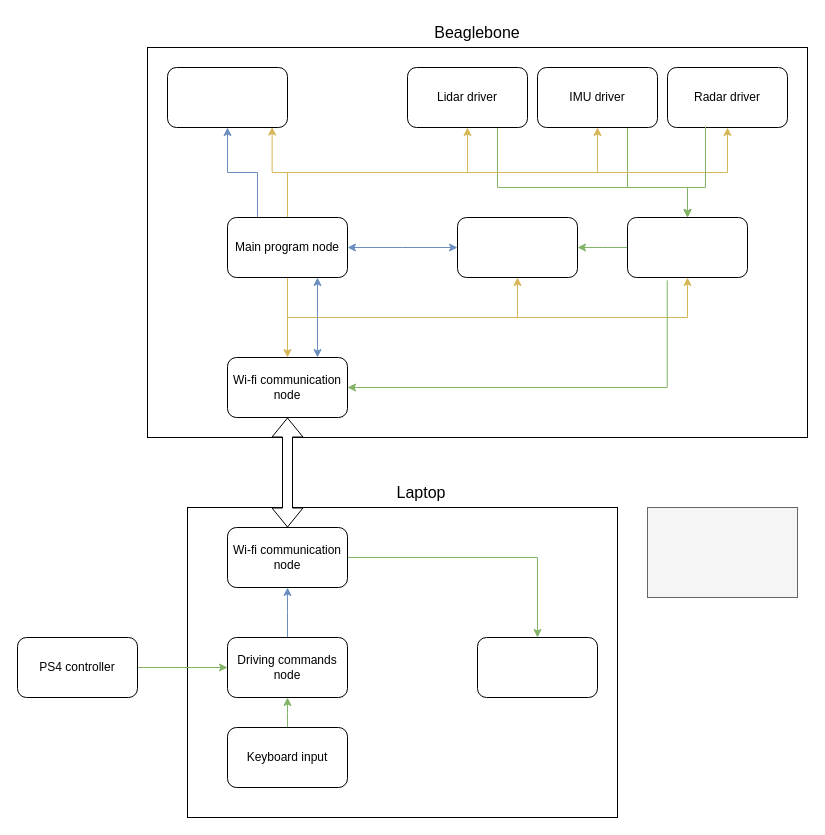
Image size: 825x835. Some labels were removed from this diagram. Here are the shapes that lost their labels. From the top down, the centre of each, then its label:
the point at 227,97: Motor driver
the point at 517,247: Navigation node
the point at 687,247: Data fusion node
the point at 722,552: Legend initialization data communication
the point at 537,667: Data visualization node
